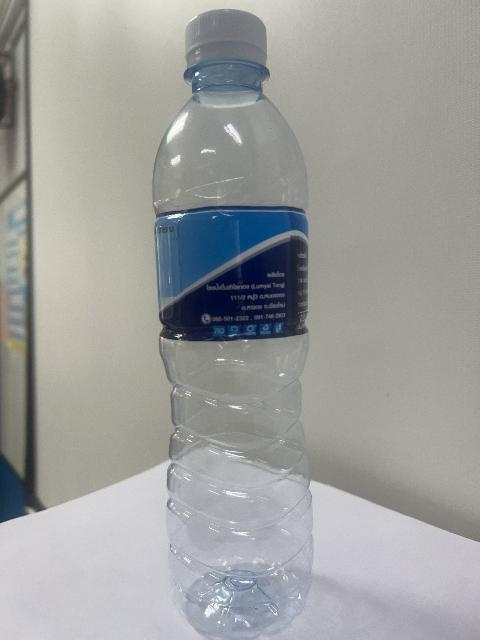bottle: (154, 10, 312, 639)
